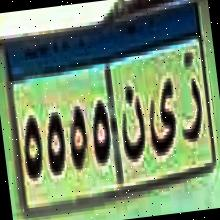5: (41, 104, 70, 184), (18, 109, 46, 189), (64, 101, 92, 176), (87, 100, 114, 168)
noon: (114, 76, 150, 170)
raa: (174, 75, 208, 149)
yaa: (141, 81, 182, 158)
